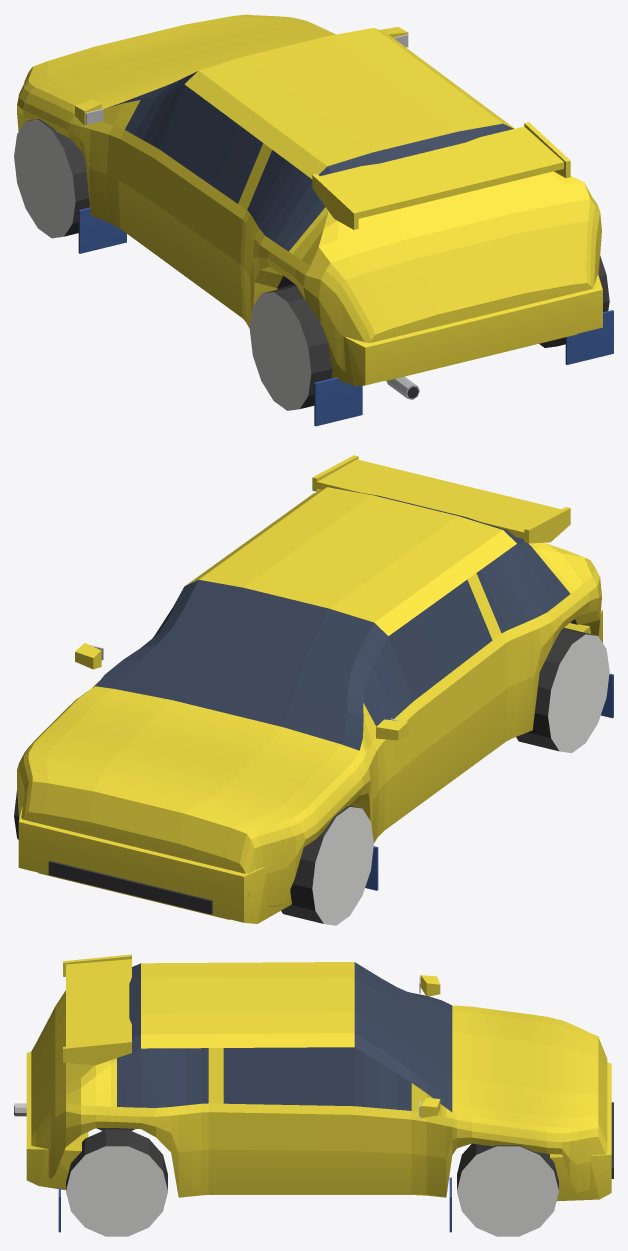
Rendered from balear.glb.
3 renders of one model, top to bottom at view 1: azimuth 30°, elevation 25°; view 2: azimuth 150°, elevation 25°; view 3: azimuth 270°, elevation 25°, orthographic. The views are drawn at different scales.
Parts seen in each view (by area): view 1: Body, Spoiler, Bumper_R, Wheel_RL, Wheel_FL, MudFlaps, Mirror_L; view 2: Body, Bumper_F, Spoiler, Wheel_RL, Wheel_FL, MudFlaps; view 3: Body, Wheel_RR, Wheel_FR, Spoiler, Bumper_F, Bumper_R, Mirror_L.
Part boxes in pixels (<box>): Body: <box>17,14,601,380</box>; Spoiler: <box>312,122,570,229</box>; Bumper_R: <box>320,275,602,385</box>; Wheel_RL: <box>249,285,332,410</box>; Wheel_FL: <box>14,119,89,238</box>; MudFlaps: <box>78,207,613,426</box>; Mirror_L: <box>75,99,103,125</box>; Body: <box>17,487,601,919</box>; Bumper_F: <box>18,807,291,923</box>; Spoiler: <box>312,455,570,543</box>; Wheel_RL: <box>516,627,609,753</box>; Wheel_FL: <box>281,805,373,925</box>; MudFlaps: <box>365,673,613,890</box>; Body: <box>31,962,607,1197</box>; Wheel_RR: <box>66,1129,167,1236</box>; Wheel_FR: <box>457,1143,558,1236</box>; Spoiler: <box>63,954,131,1065</box>; Bumper_F: <box>550,1062,613,1201</box>; Bumper_R: <box>26,1052,88,1190</box>; Mirror_L: <box>419,975,440,996</box>.
Size of the model in its own units: 2.06 by 1.33 by 3.99.
